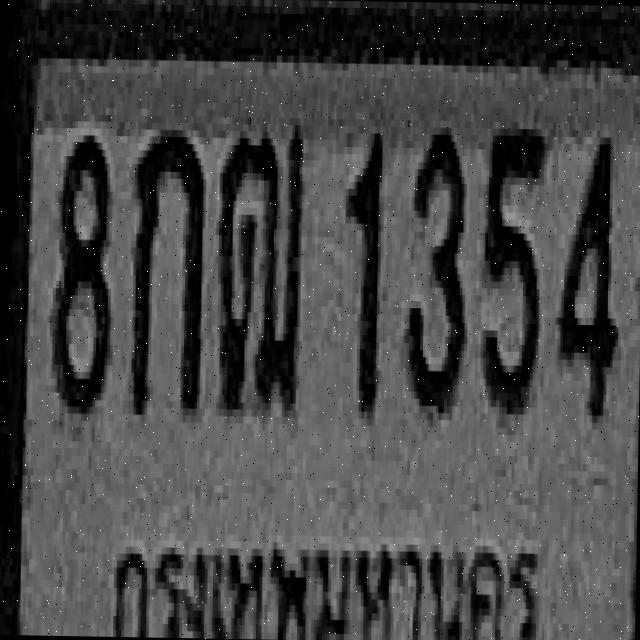1: (341, 126, 384, 412)
10GorGai: (129, 119, 203, 412)
27ThorPhuThao: (214, 117, 304, 410)
3: (404, 116, 466, 410)
4: (556, 130, 618, 416)
5: (481, 118, 546, 411)
8: (51, 128, 113, 414)
Bangkok: (110, 515, 538, 640)
